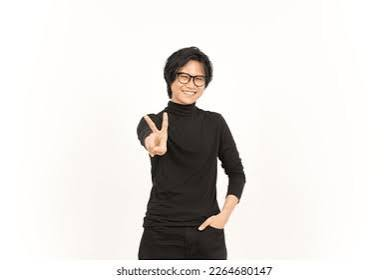peace_sign: (143, 109, 171, 160)
